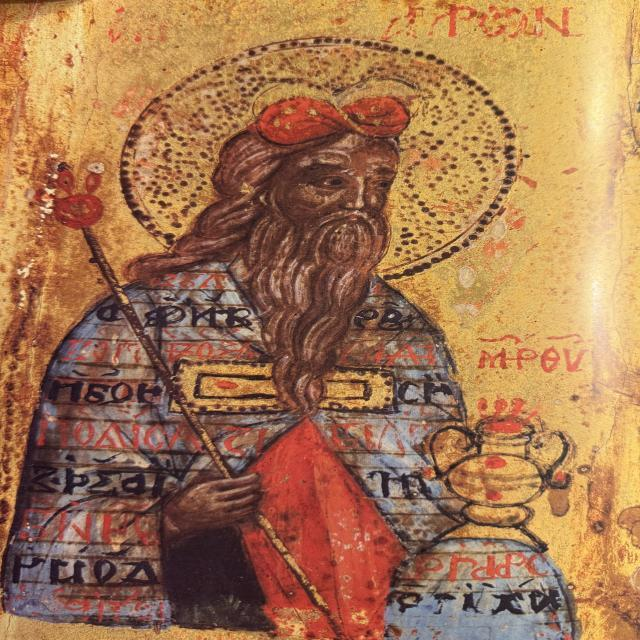aura: (116, 34, 526, 284)
saint: (1, 16, 607, 635)
scepter: (43, 162, 333, 622)
vase: (428, 401, 585, 543)
